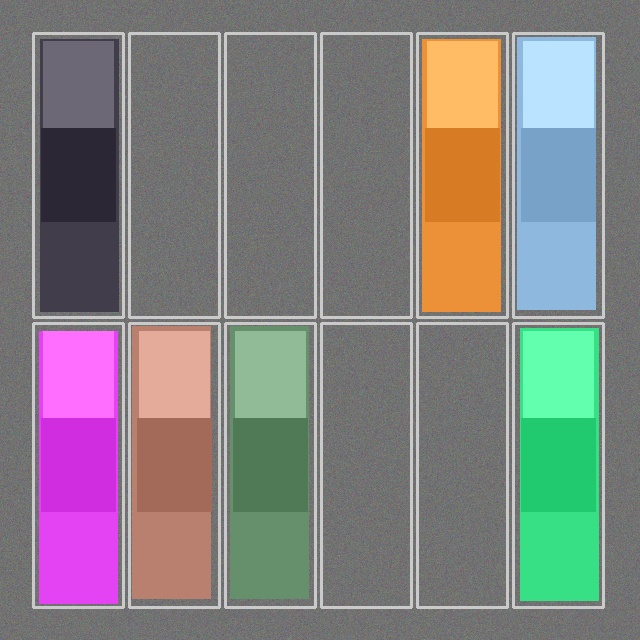space-empty: (131, 35, 217, 315), (227, 35, 313, 315), (323, 35, 409, 315), (323, 325, 409, 605), (419, 325, 505, 605)
space-occupied: (35, 35, 121, 315), (419, 35, 505, 315), (515, 35, 601, 315), (35, 325, 121, 605), (131, 325, 217, 605), (227, 325, 313, 605), (515, 325, 601, 605)
